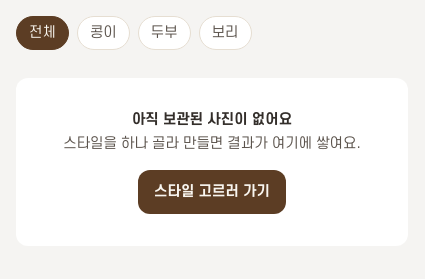
Test: W-09 · 보관함 › 결과가 없을 때 필터 탓이면 필터를 풀 길을 준다
The image size is (425, 279).
What coordinates should you click on to do the following:
click the button "콩이"
I would click on:
 (103, 33)
Its box is [77,16,130,50].
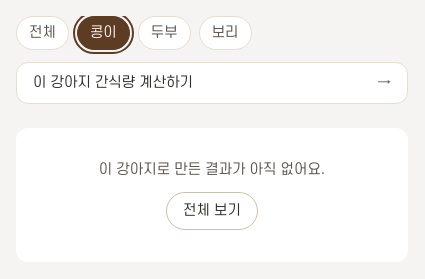
expect the text "이 강아지로 만든 결과가 아직 없어요." is shown: met, box [99,161,325,178]
expect the button "전체 보기" is shown: met, box [166,192,258,230]
